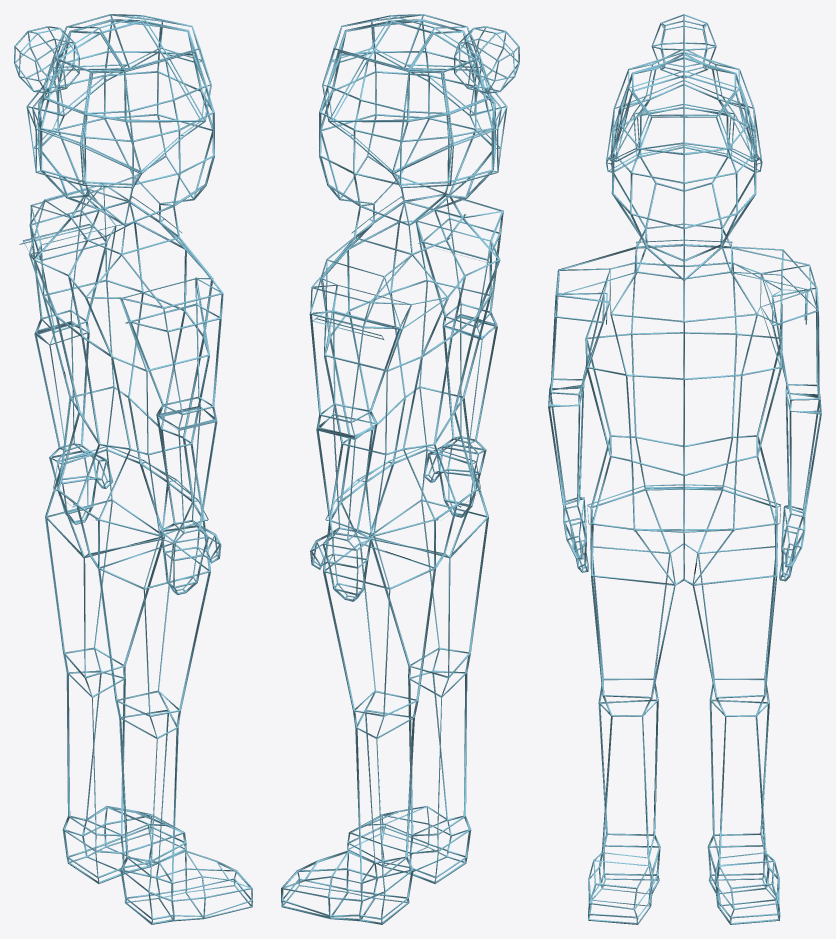
File: char_holo_03.glb
The picture shows the model from 3 angles, left to right: view 1: azimuth 30°, elevation 25°; view 2: azimuth 150°, elevation 25°; view 3: azimuth 270°, elevation 25°; orthographic projection. The views are drawn at different scales.
Parts seen in each view (by area): view 1: char; view 2: char; view 3: char.
Part boxes in pixels (bbox=[...]): char: bbox=[14, 14, 252, 924]; char: bbox=[281, 14, 519, 924]; char: bbox=[548, 14, 821, 924].
Size of the model in its own units: 0.1114 by 0.4783 by 0.1426.
1 material, 1 textured.
